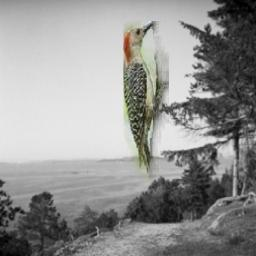Woodpecker: (124, 22, 170, 184)
